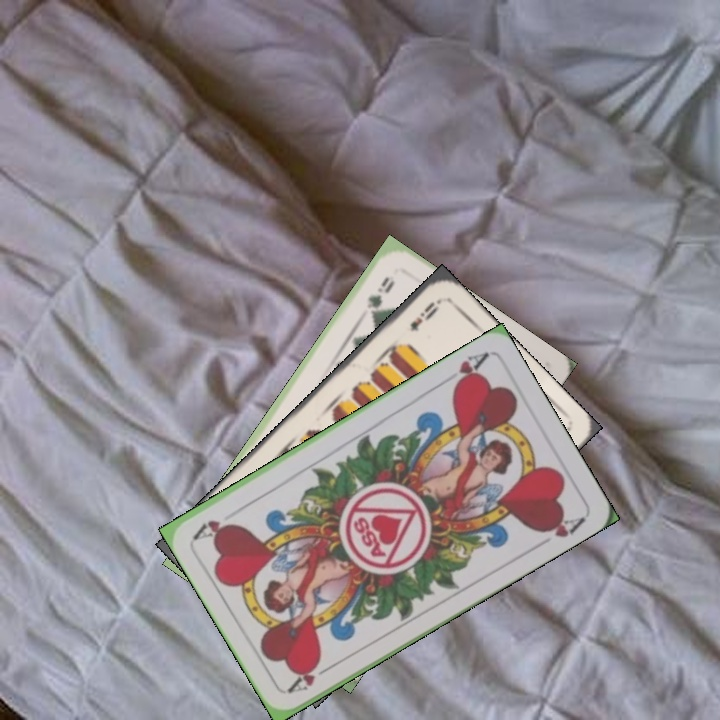E9: (406, 296, 442, 335)
G9: (362, 272, 397, 321)
HA: (438, 348, 491, 392), (284, 657, 338, 696)
